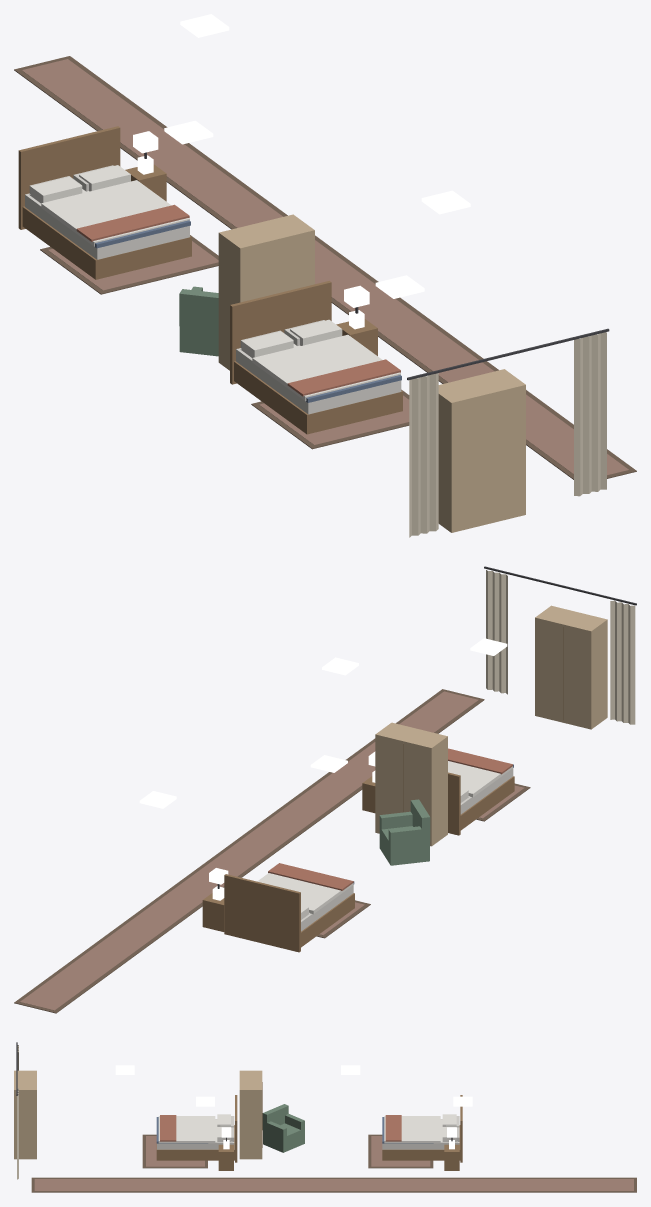
Rendered from fine-s1.glb.
3 renders of one model, top to bottom at view 1: azimuth 30°, elevation 25°; view 2: azimuth 150°, elevation 25°; view 3: azimuth 270°, elevation 25°, orthographic. The views are drawn at different scales.
Parts seen in each view (by area): view 1: soft-s1, dresser.001, bed-frame.000, bed-frame.001, dresser.000, lounge-chair.000, nightstand.000, nightstand.001, ceiling-lamp.003, ceiling-lamp.004, ceiling-lamp.005, ceiling-lamp.002; view 2: soft-s1, dresser.001, dresser.000, bed-frame.000, lounge-chair.000, bed-frame.001, nightstand.000; view 3: soft-s1, dresser.000, dresser.001, lounge-chair.000, bed-frame.001, bed-frame.000, nightstand.001, nightstand.000.
Boxes of the visible parts, x1,y1,x2,y2 form: soft-s1: (14,56,636,537); dresser.001: (438,369,525,532); bed-frame.000: (18,126,191,279); bed-frame.001: (230,280,402,434); dresser.000: (218,214,314,370); lounge-chair.000: (179,286,218,356); nightstand.000: (125,155,166,201); nightstand.001: (336,310,377,355); ceiling-lamp.003: (421,190,470,214); ceiling-lamp.004: (164,120,213,144); ceiling-lamp.005: (375,275,424,298); ceiling-lamp.002: (180,14,229,37); soft-s1: (14,566,636,1013); dresser.001: (535,605,607,729); dresser.000: (375,722,447,846); bed-frame.000: (224,874,354,952); lounge-chair.000: (379,799,430,865); bed-frame.001: (448,764,514,835); nightstand.000: (202,886,224,931); soft-s1: (16,1042,636,1192); dresser.000: (239,1070,262,1159); dresser.001: (14,1070,36,1159); lounge-chair.000: (262,1104,304,1152); bed-frame.001: (156,1095,237,1162); bed-frame.000: (382,1095,462,1162); nightstand.001: (218,1140,233,1170); nightstand.000: (444,1140,459,1170).
Bounding box in the file's own units: 3.91 × 2.51 × 16.26.
